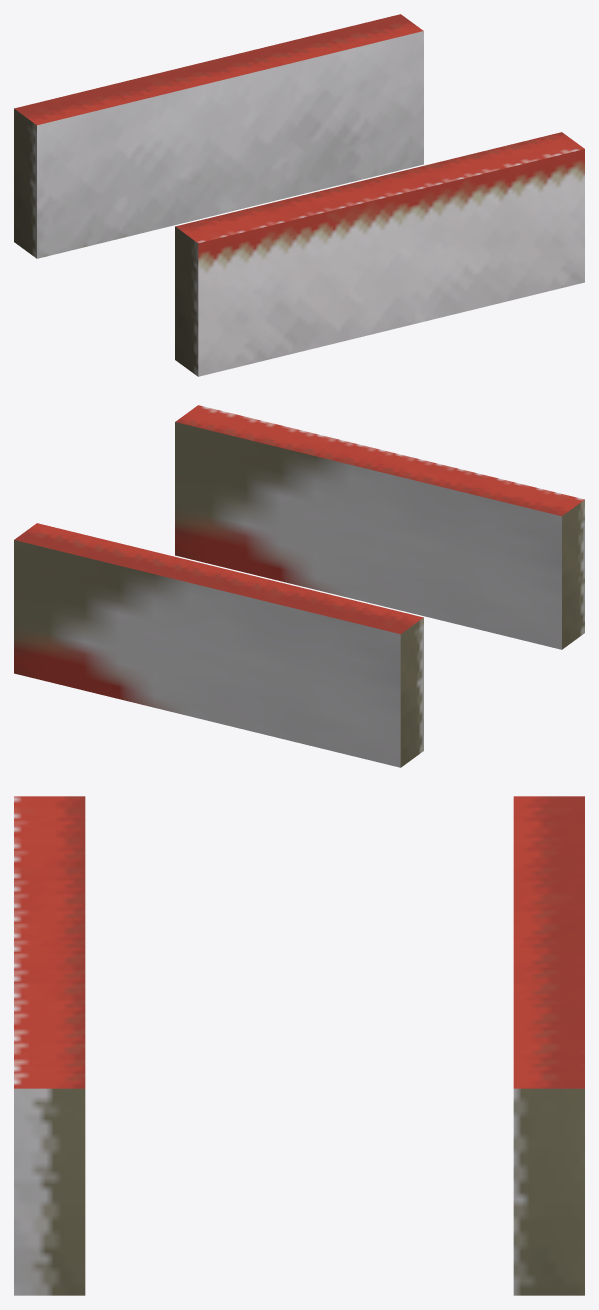
The model's file is pz_g016_shop_zippee_wall_shelves.obj.
3 renders of one model, top to bottom at view 1: azimuth 30°, elevation 25°; view 2: azimuth 150°, elevation 25°; view 3: azimuth 270°, elevation 25°, orthographic. The views are drawn at different scales.
Visible parts, largest first — view 1: physical_component_0_z+, physical_component_1_z+, physical_component_1_y+, physical_component_0_y+, physical_component_1_x-, physical_component_0_x-; view 2: physical_component_1_z-, physical_component_0_z-, physical_component_0_y+, physical_component_1_y+, physical_component_0_x-, physical_component_1_x-; view 3: physical_component_0_y+, physical_component_1_y+, physical_component_0_x+, physical_component_1_x+.
Part boxes in pixels (bbox=[...]): physical_component_0_z+: bbox=[37, 31, 423, 258]; physical_component_1_z+: bbox=[198, 149, 584, 376]; physical_component_1_y+: bbox=[175, 132, 584, 243]; physical_component_0_y+: bbox=[14, 14, 423, 125]; physical_component_1_x-: bbox=[175, 226, 198, 376]; physical_component_0_x-: bbox=[14, 109, 36, 258]; physical_component_1_z-: bbox=[175, 422, 561, 649]; physical_component_0_z-: bbox=[14, 540, 400, 767]; physical_component_0_y+: bbox=[14, 523, 423, 634]; physical_component_1_y+: bbox=[175, 405, 584, 516]; physical_component_0_x-: bbox=[400, 617, 423, 767]; physical_component_1_x-: bbox=[562, 500, 584, 649]; physical_component_0_y+: bbox=[513, 796, 584, 1088]; physical_component_1_y+: bbox=[14, 796, 85, 1088]; physical_component_0_x+: bbox=[513, 1088, 584, 1295]; physical_component_1_x+: bbox=[14, 1088, 85, 1295].
Size of the model in its own units: 0.97 by 0.32 by 0.8.
1 material, 1 textured.
